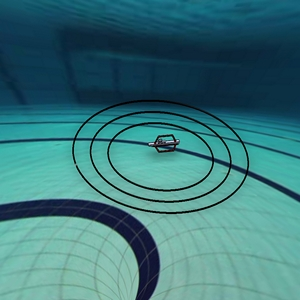circle: (53, 81, 262, 225)
submarine: (145, 129, 190, 164)
